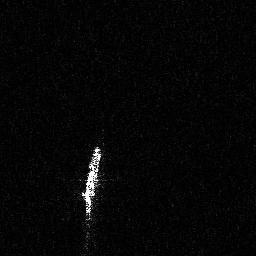ship: (78, 141, 102, 249)
